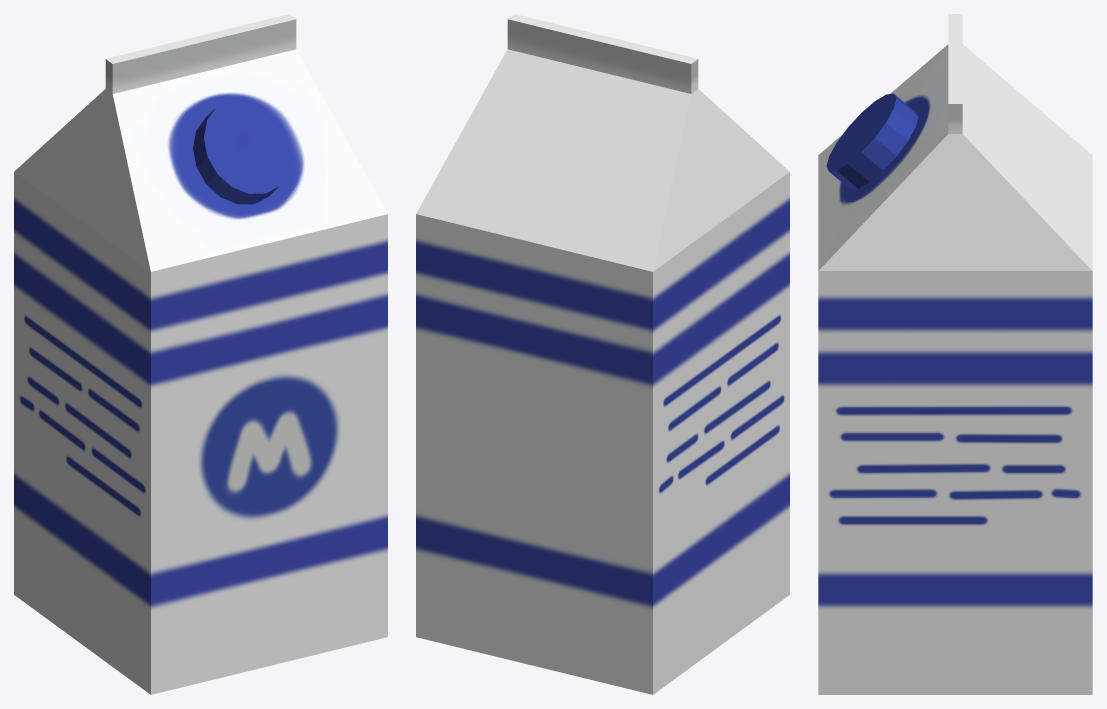
File: tetrapack.fbx
3 views of the same model, side by side, from view 1: azimuth 30°, elevation 25°; view 2: azimuth 150°, elevation 25°; view 3: azimuth 270°, elevation 25° (orthographic).
Visible parts, largest first — view 1: tetrapack; view 2: tetrapack; view 3: tetrapack.
Part boxes in pixels (x1,y1,x2,y2): tetrapack: (14, 14, 387, 694); tetrapack: (416, 14, 789, 694); tetrapack: (818, 14, 1092, 694).
Size of the model in its own units: 87.22 by 203 by 87.22.
